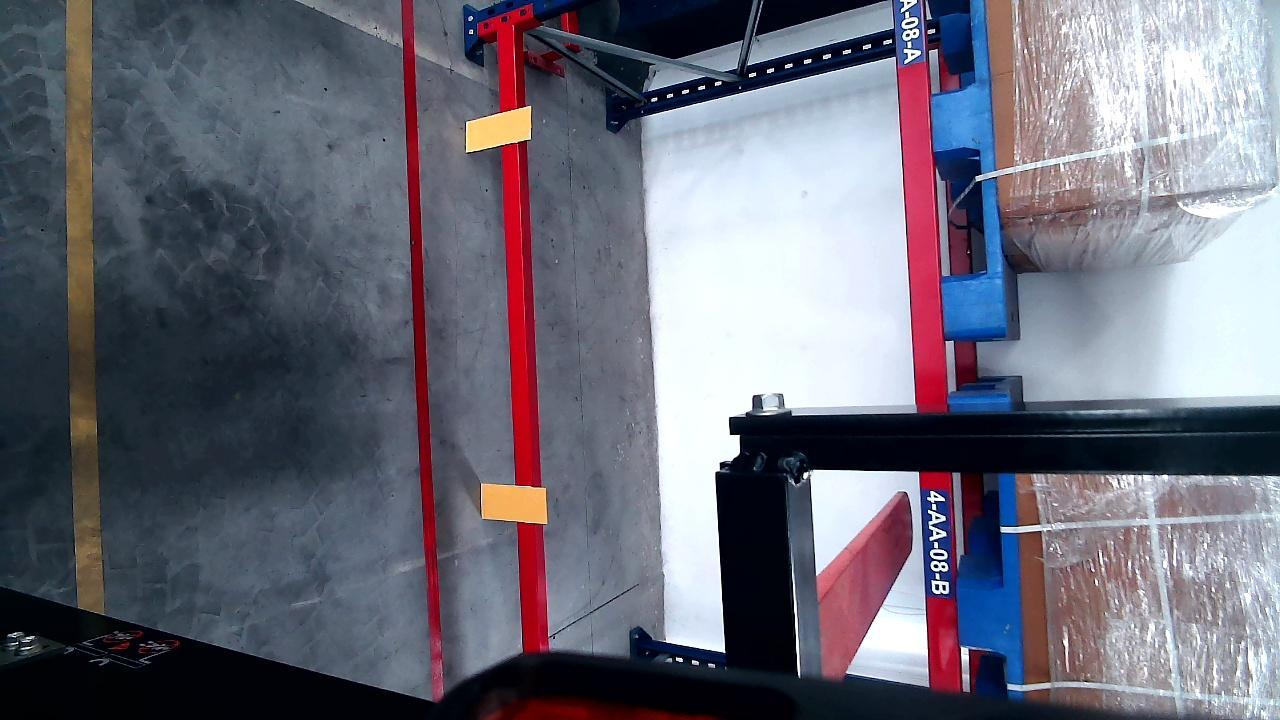red_line: (399, 2, 446, 698)
